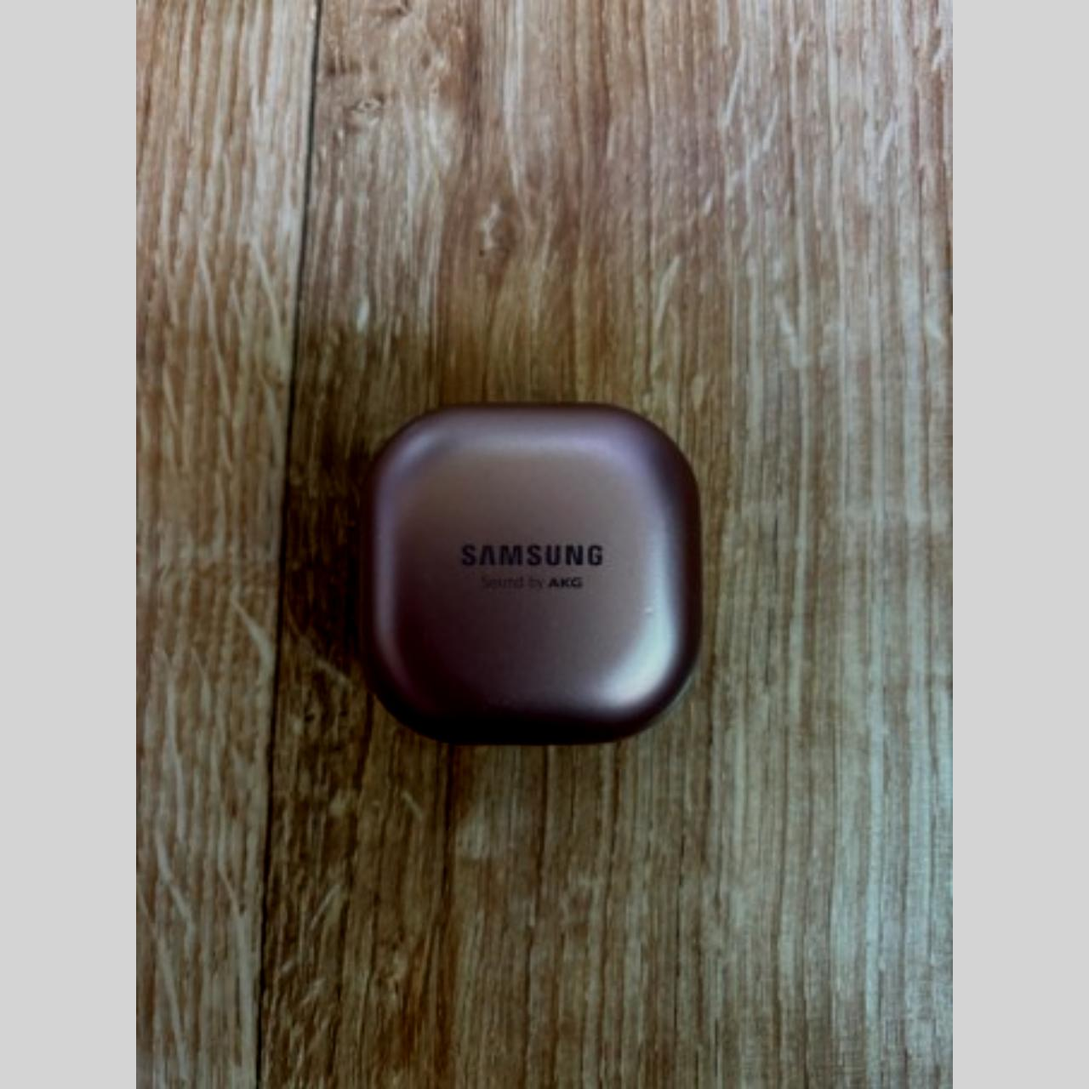Buds: (359, 399, 705, 751)
